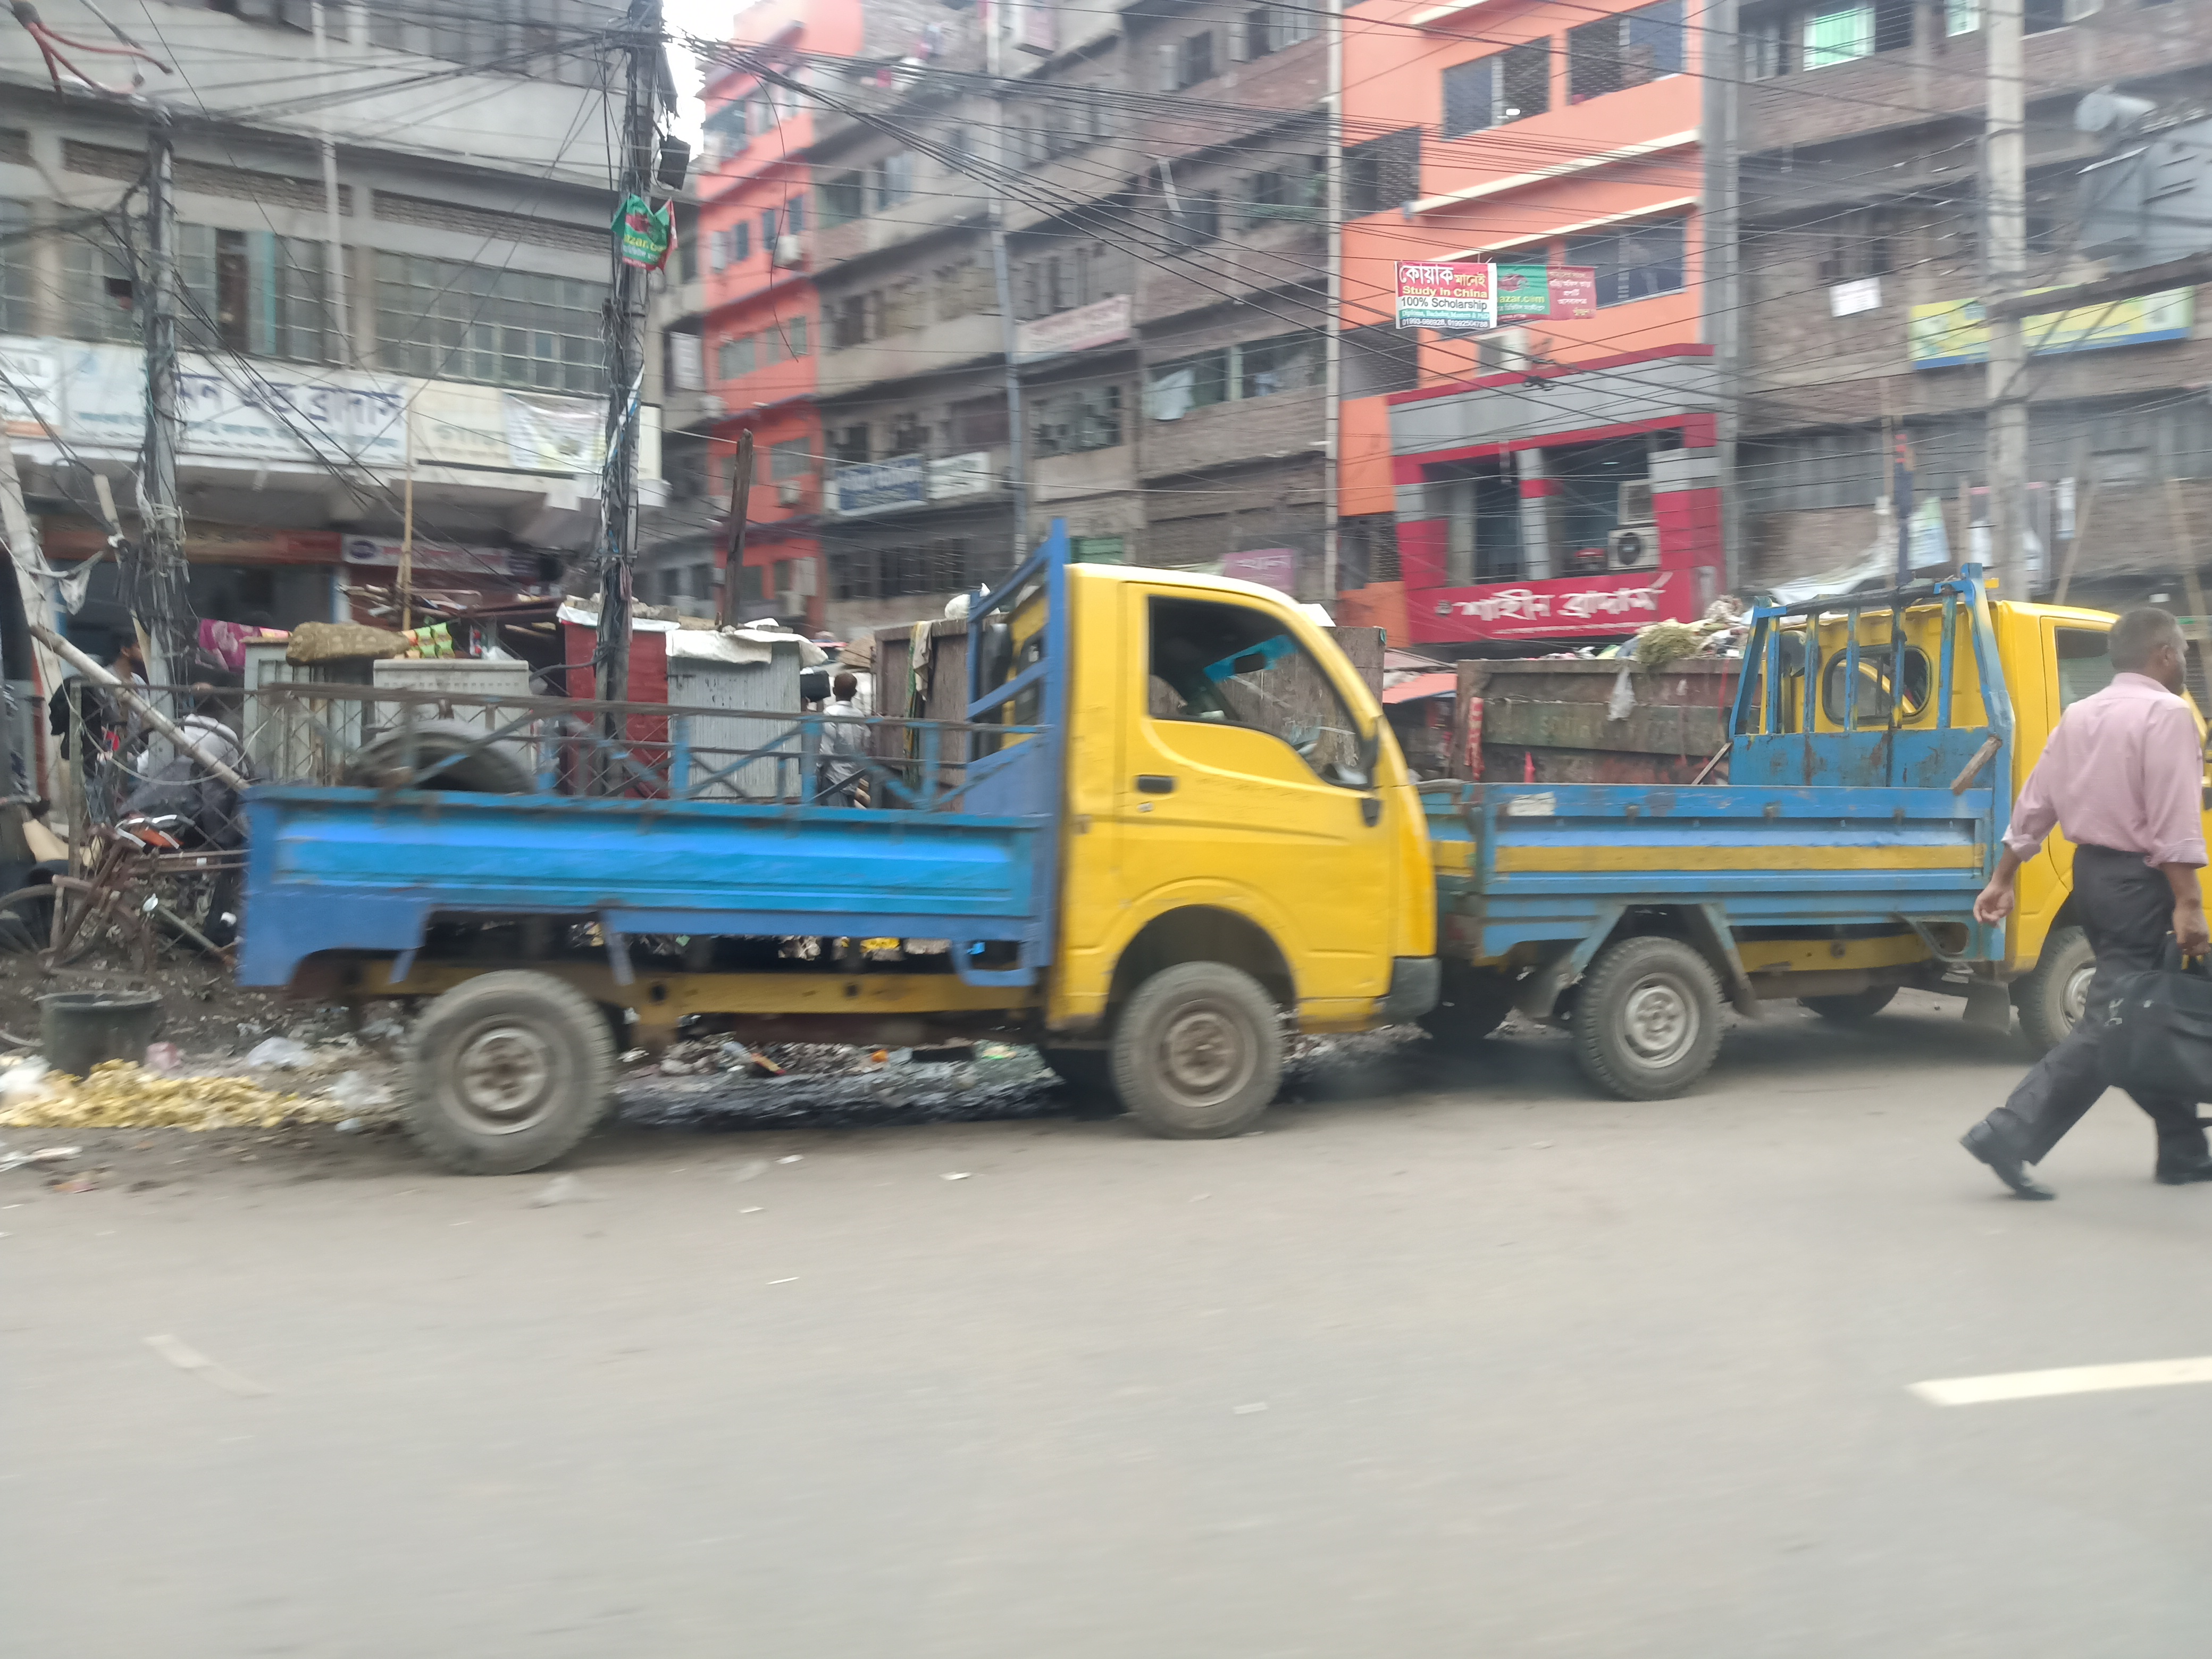truck: (211, 495, 1454, 1171), (1413, 563, 2209, 1093)
